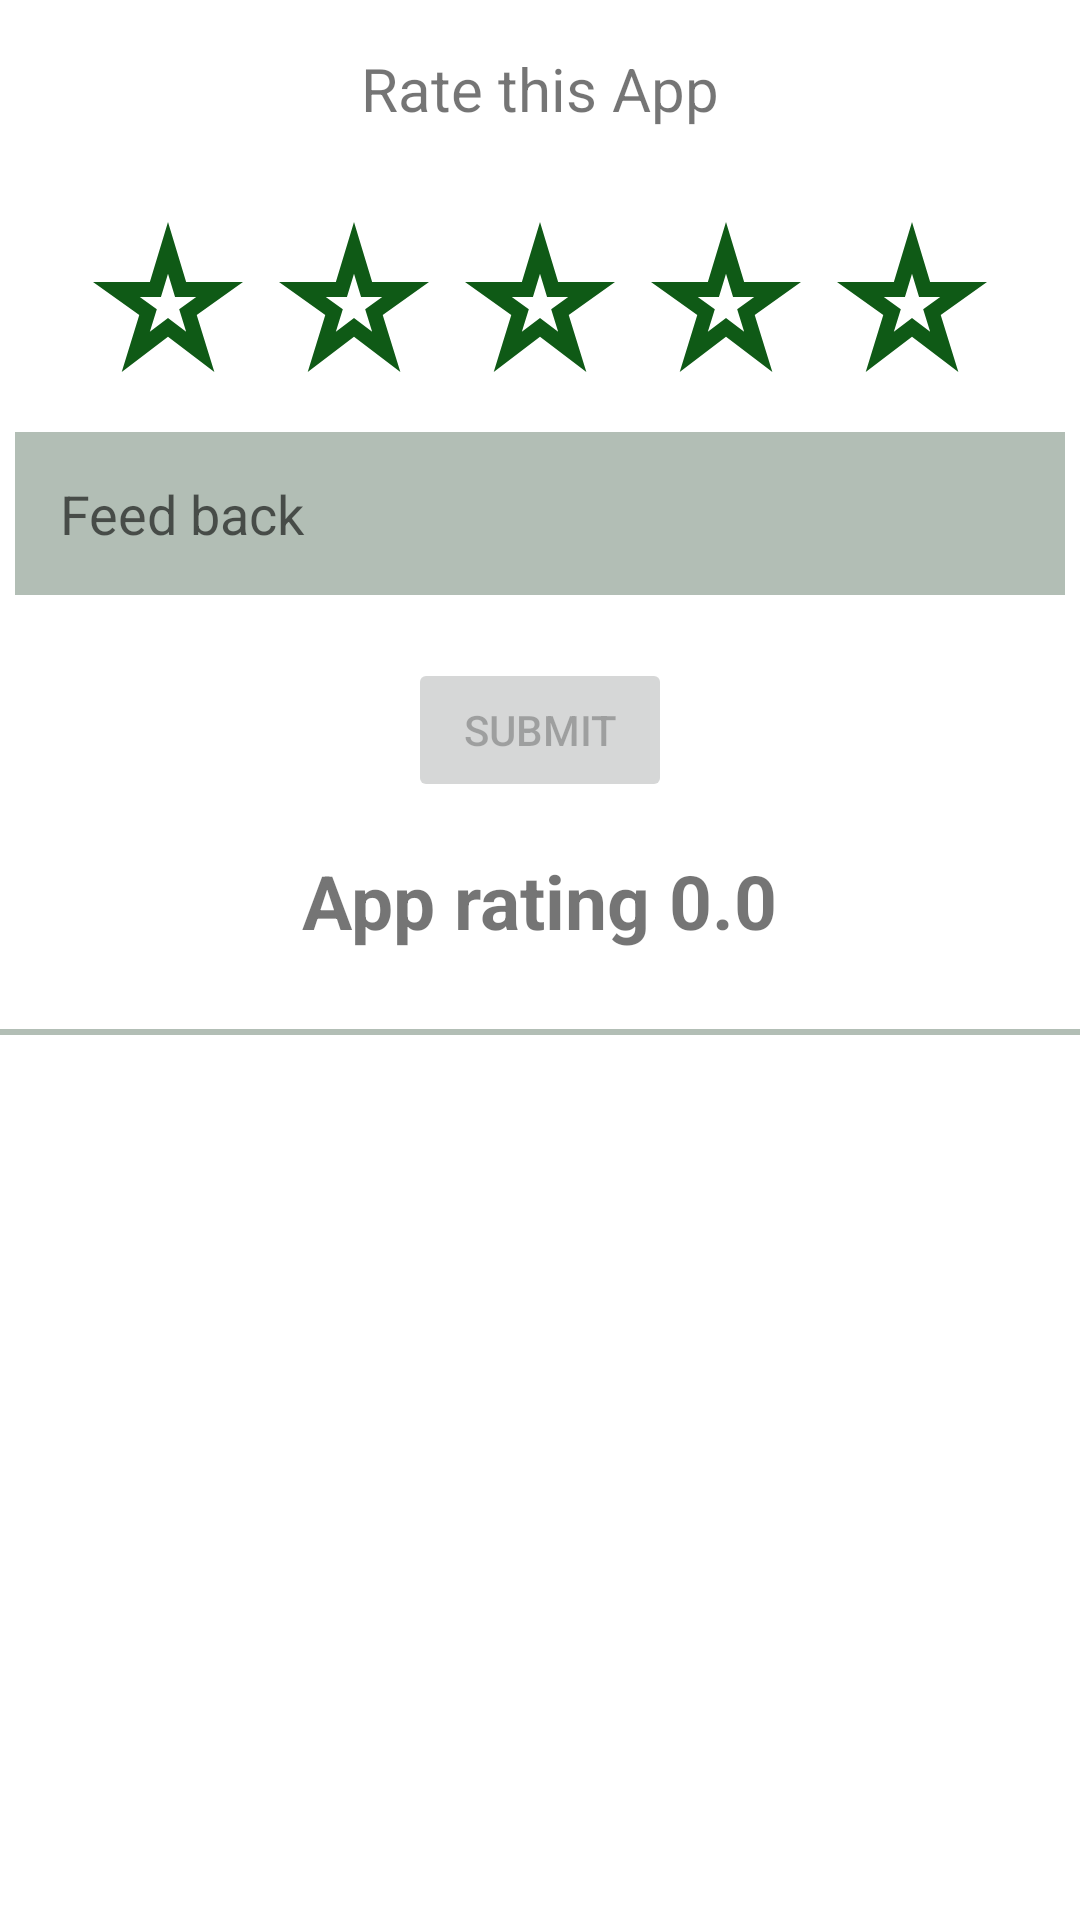

Icons on this 1080*1920 Android screen, each with its box as [x1, y1, x2, y2]:
starbefore: [93, 222, 243, 372], [279, 222, 429, 372], [465, 222, 615, 372], [651, 222, 801, 372], [837, 222, 987, 372]
